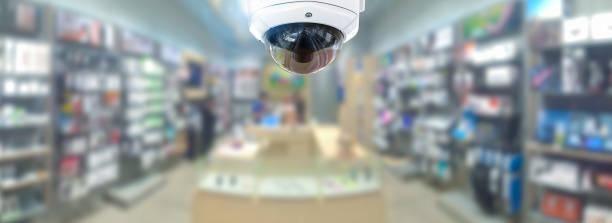camera: (231, 0, 370, 86)
